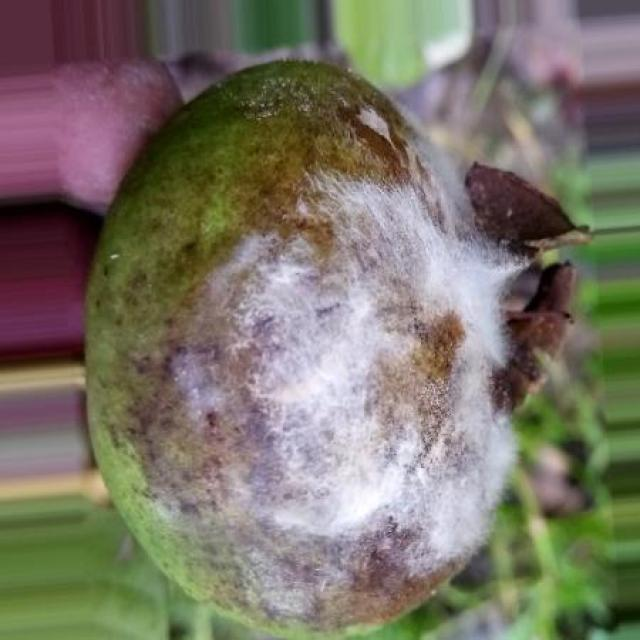Phytopthora: (88, 61, 528, 632)
